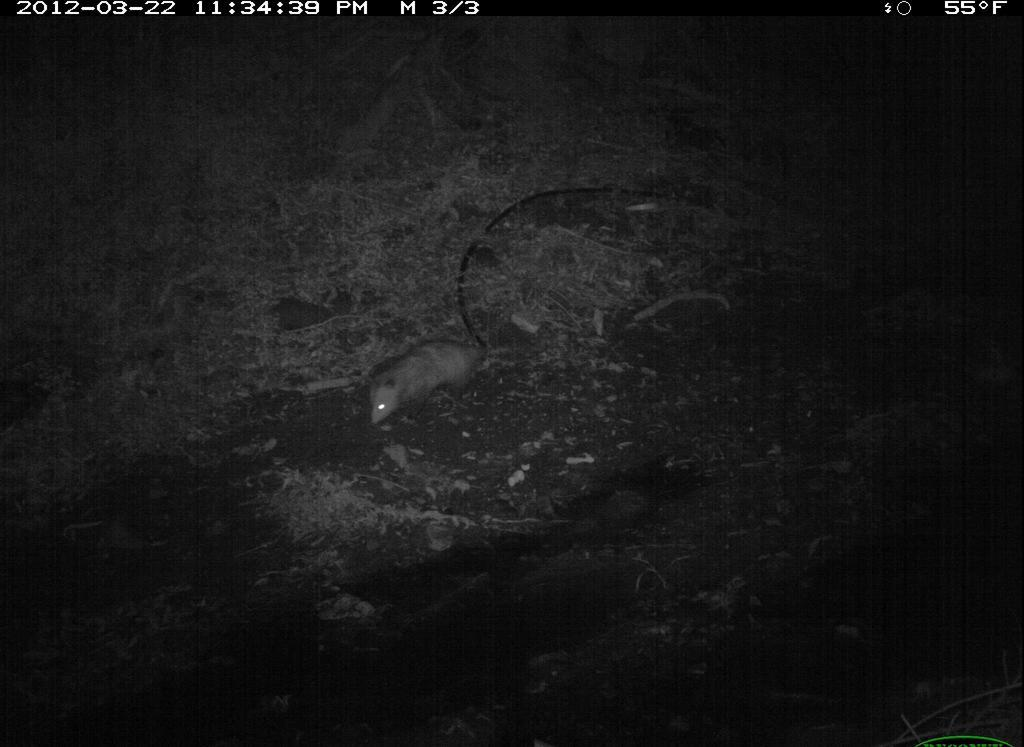opossum: (361, 326, 536, 433)
